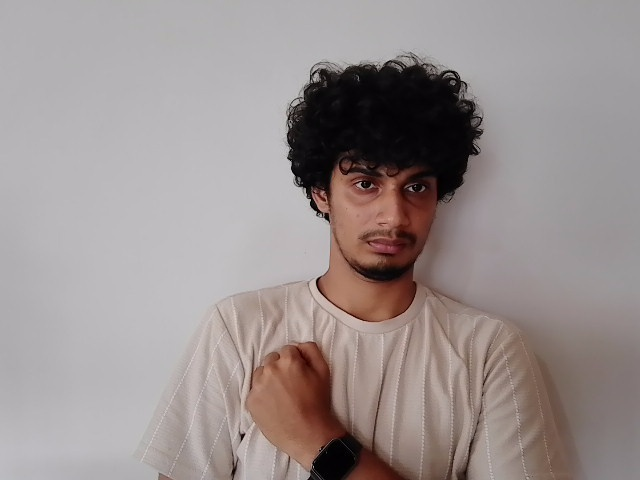sorry: (198, 260, 365, 442)
